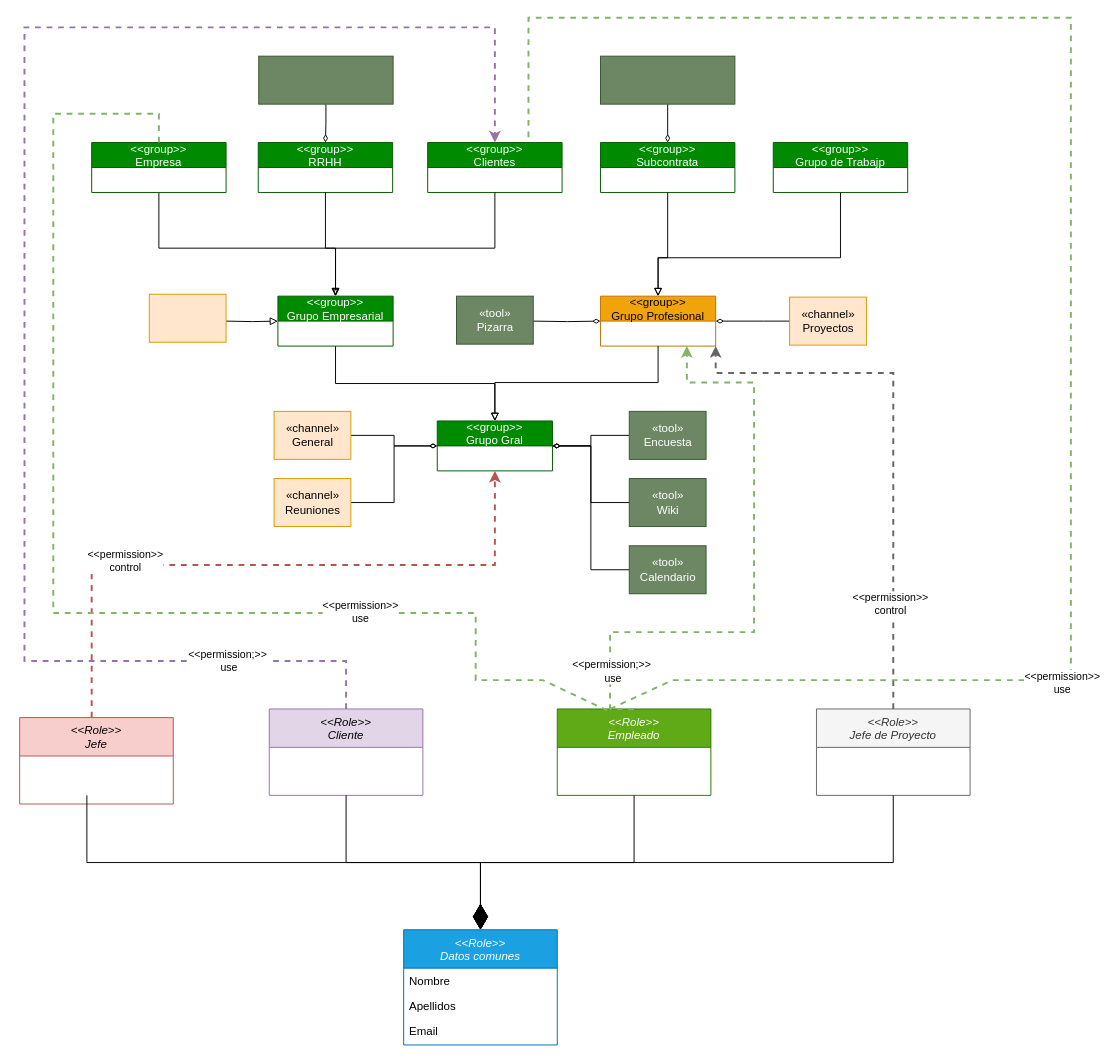
This 1116x1062 diagram has some shape labels left out. Each missing label, with the centre of its shape:
"«channel» Sugerencias" belongs at pixel 187 317.
"«tool» Planner (CATEGORIZED TASKS" belongs at pixel 325 79.
"«tool» Planner (TASKS LIFECYCLE)" belongs at pixel 667 79.
